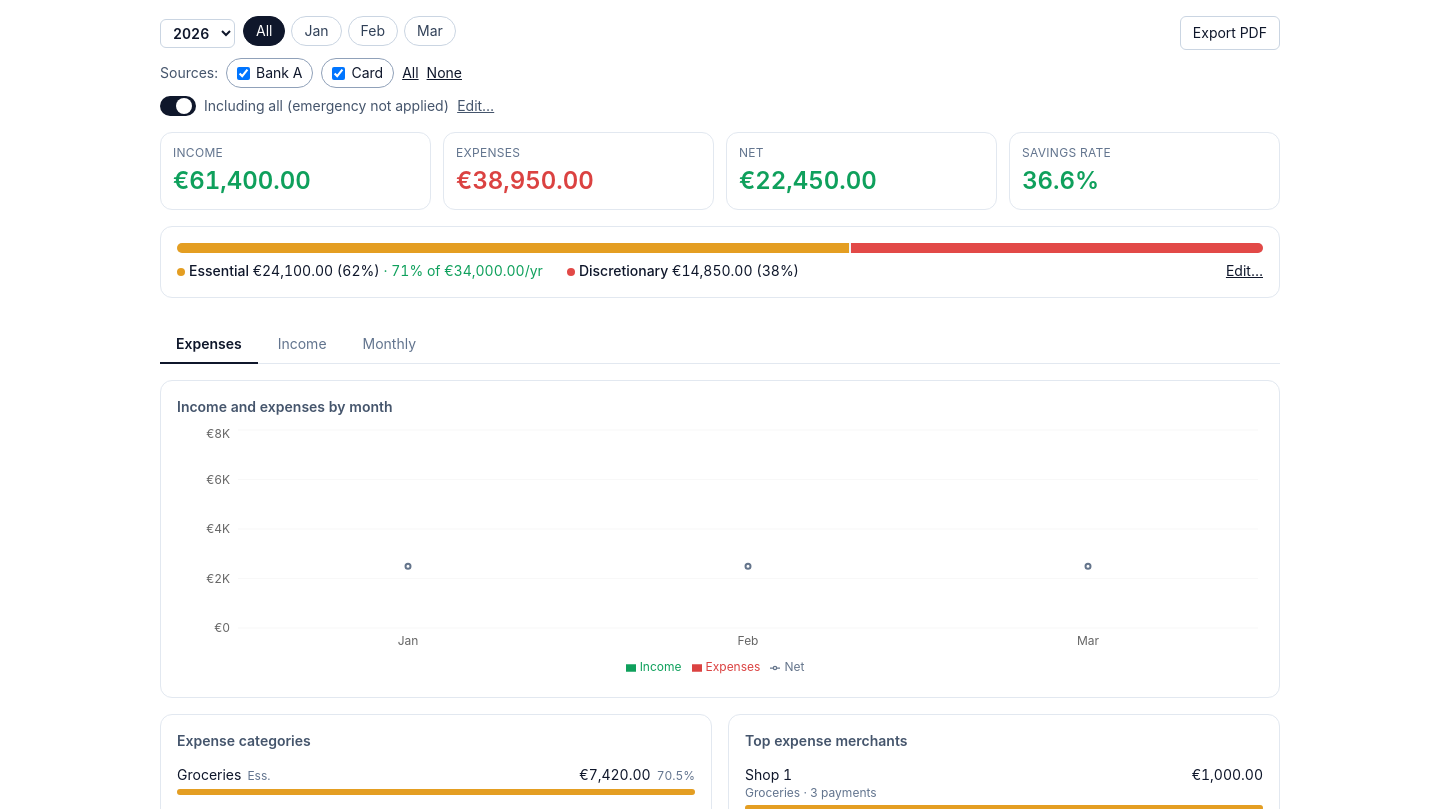
Test: hidden-tag editor › saves the ticked patterns, turns the exclusion on, and says so
The image size is (1440, 809).
Click the button with aria-label "edit hidden tags" at [476, 106], box left=457, top=96, right=494, bottom=116
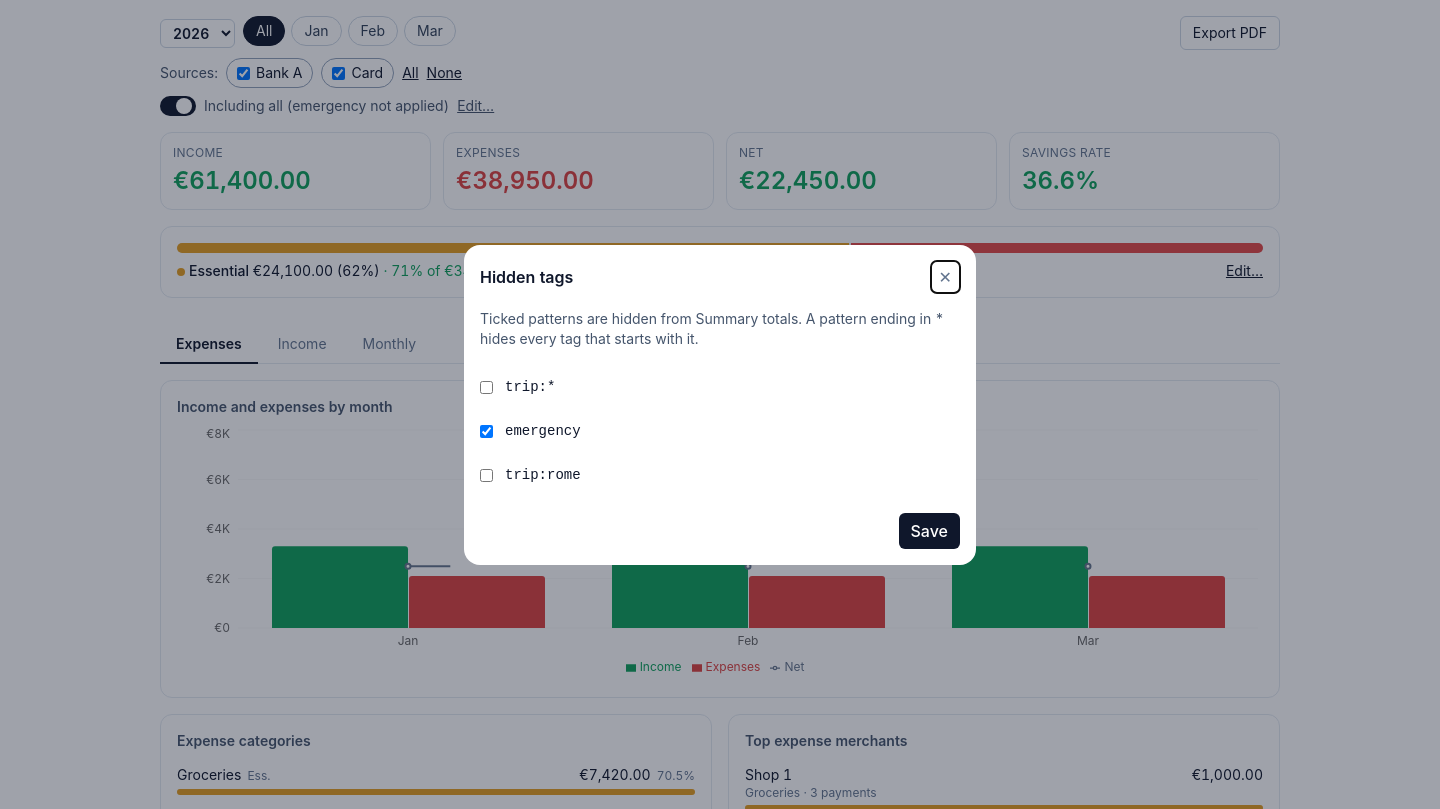
Now the checkbox labelled "emergency" is checked, box left=480, top=424, right=493, bottom=438
Now the checkbox labelled "trip:rome" is not checked, box left=480, top=468, right=493, bottom=482
Click the checkbox labelled "trip:*" at [486, 387], box left=480, top=380, right=493, bottom=394
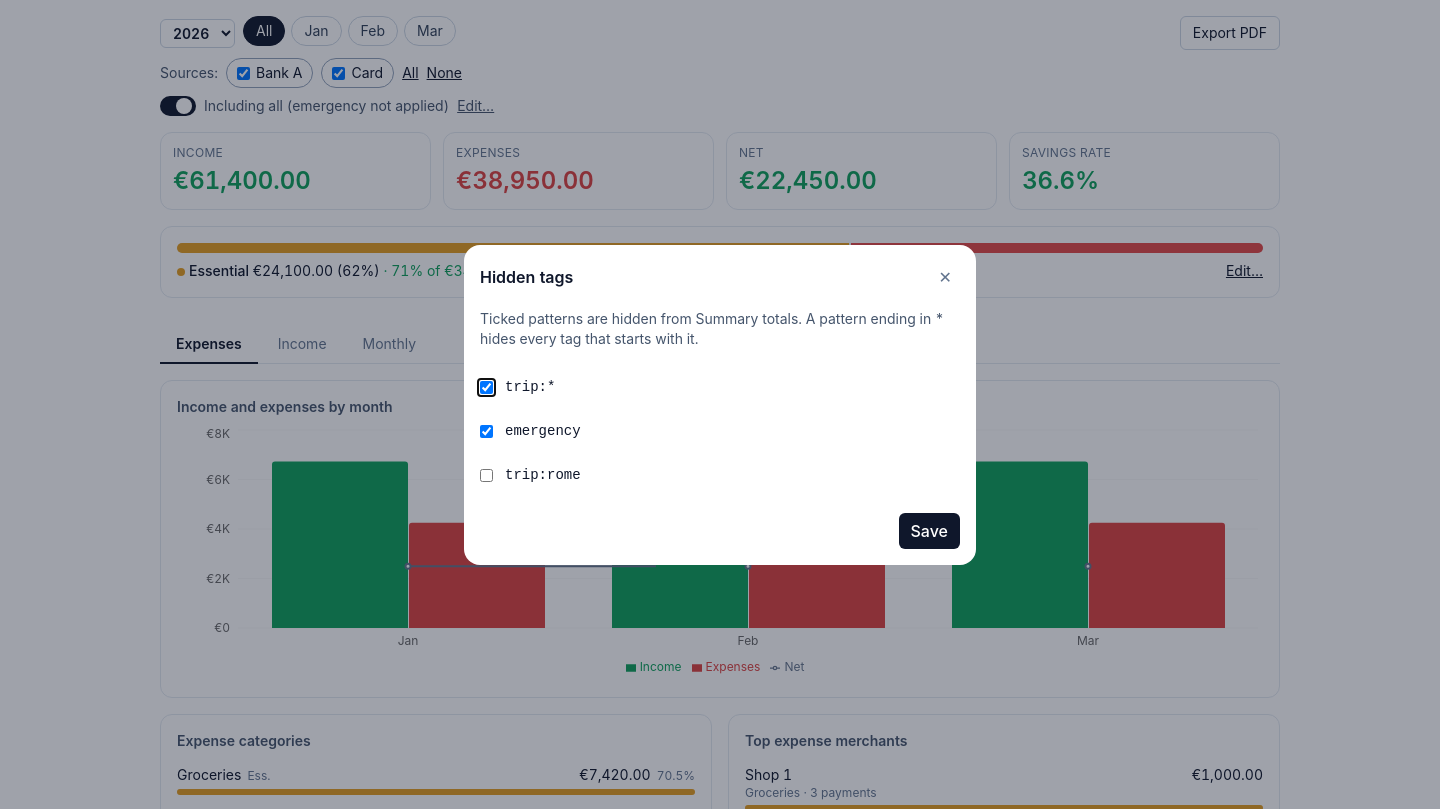
Click the button "Save" at [929, 531], box left=898, top=513, right=960, bottom=549
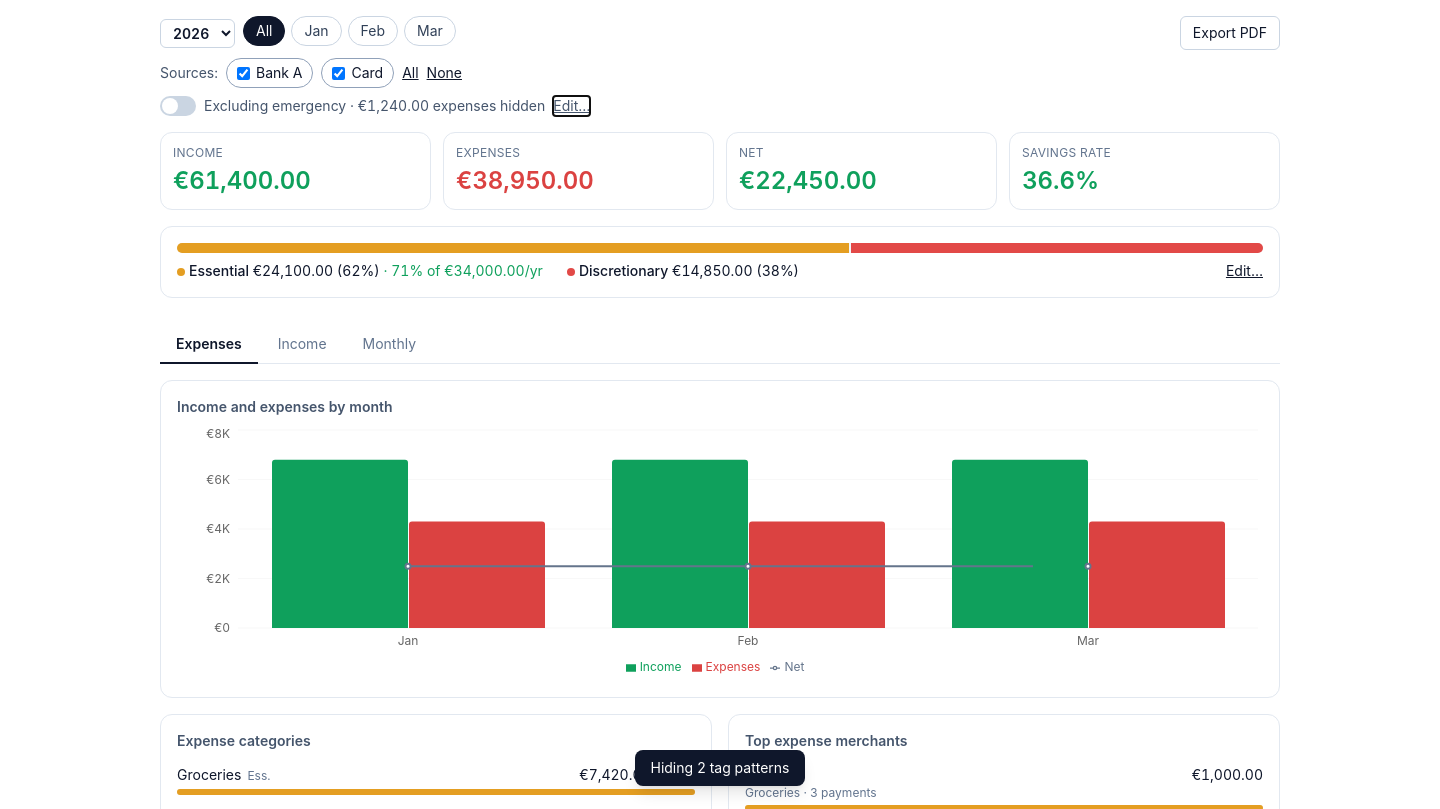
Now the text "Hiding 2 tag patterns" is shown, box left=650, top=758, right=790, bottom=778
